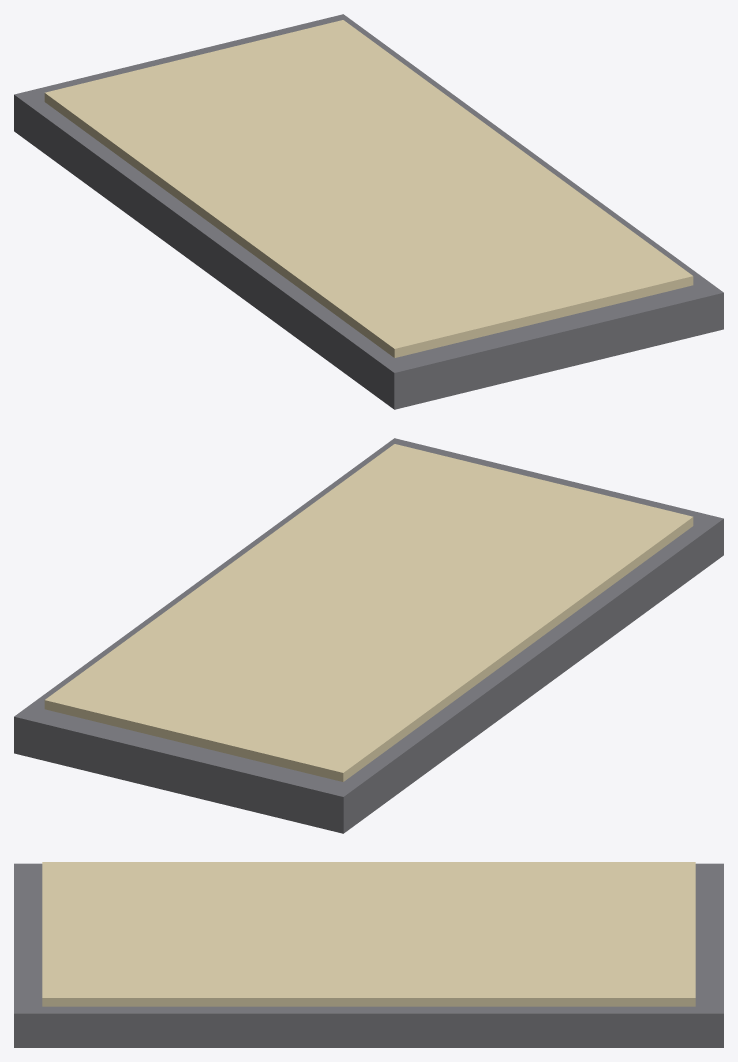
File: PRP_P0_Phone_Smart_A.obj
3 renders of one model, top to bottom at view 1: azimuth 30°, elevation 25°; view 2: azimuth 150°, elevation 25°; view 3: azimuth 270°, elevation 25°, orthographic. The views are drawn at different scales.
Visible parts, largest first — view 1: screen, body; view 2: screen, body; view 3: screen, body.
Boxes of the visible parts, box(x1,y1,x2,y2) form: screen: box(44, 20, 693, 357); body: box(14, 14, 723, 409); screen: box(44, 444, 693, 781); body: box(14, 438, 723, 833); screen: box(42, 862, 695, 1006); body: box(14, 863, 723, 1047).
Size of the model in its own units: 0.075 by 0.01 by 0.15.
